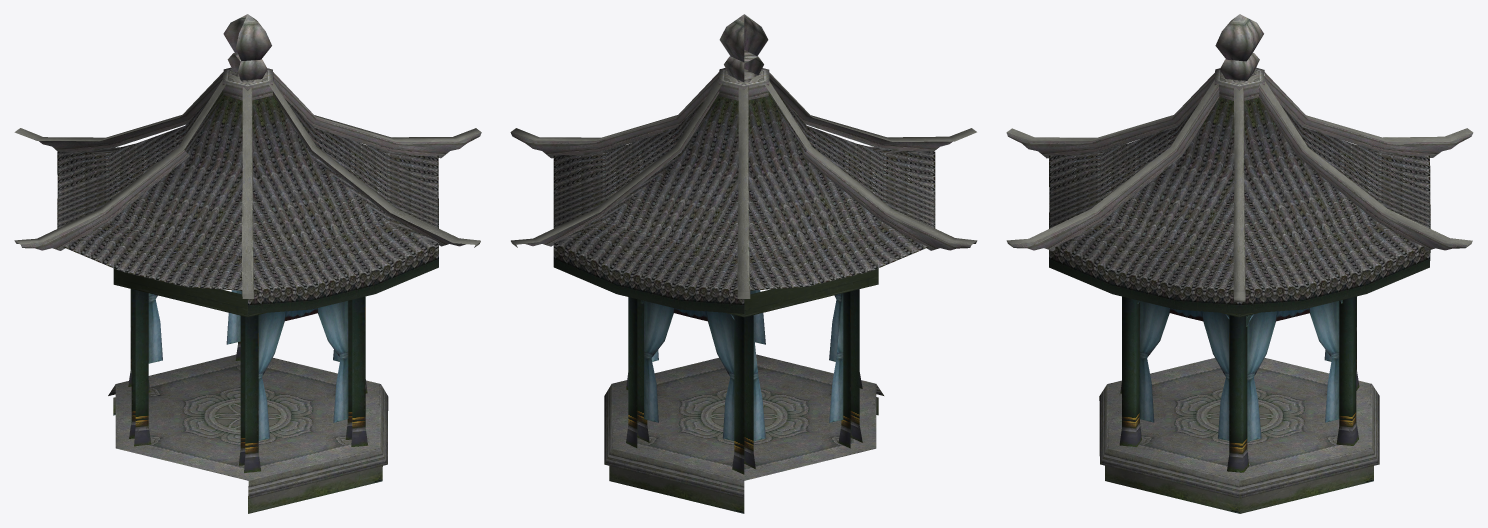
File: SC001Jjianzhu_08.FBX
The picture shows the model from 3 angles, left to right: view 1: azimuth 30°, elevation 25°; view 2: azimuth 150°, elevation 25°; view 3: azimuth 270°, elevation 25°; orthographic projection.
Parts seen in each view (by area): view 1: SC001Jjianzhu_08; view 2: SC001Jjianzhu_08; view 3: SC001Jjianzhu_08.
Part boxes in pixels (x1,y1,x2,y2): SC001Jjianzhu_08: (14, 14, 481, 513); SC001Jjianzhu_08: (510, 14, 977, 513); SC001Jjianzhu_08: (1006, 14, 1473, 513).
Size of the model in its own units: 7.2 by 6.48 by 6.32.
